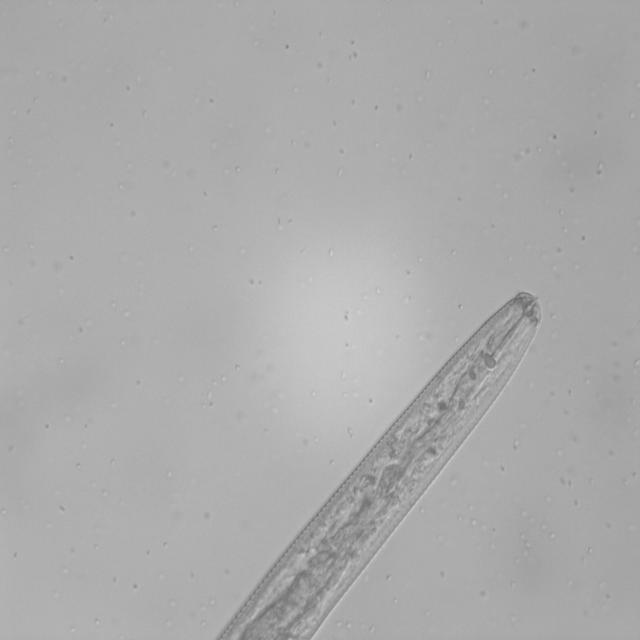Pratylenchus: (190, 275, 557, 640)
